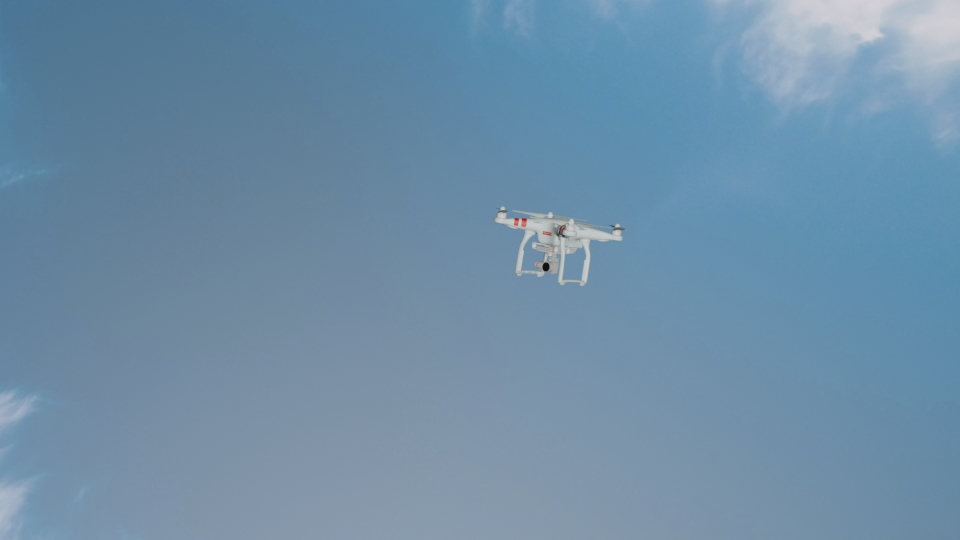drone: (481, 205, 627, 286)
